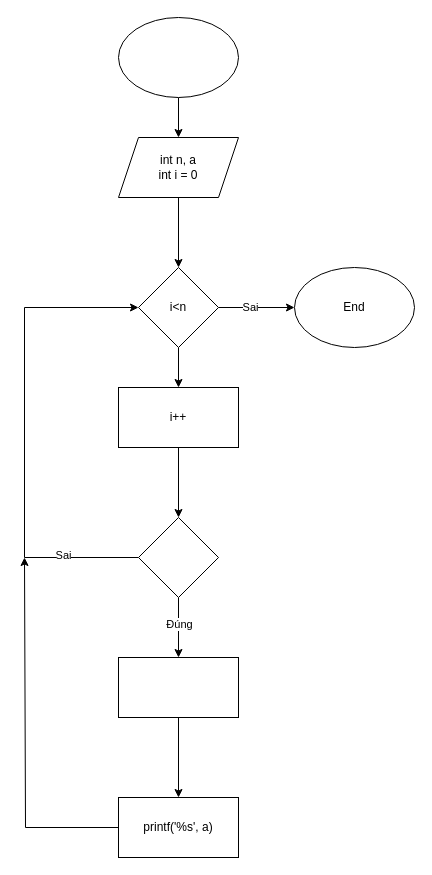
Some shapes in this 432 by 875 pixel diagram are drawn without their labels. The centre of each missing label's shape, as x and y in pixels:
a = i * i: the point at 178,687
i == n: the point at 178,557
Start: the point at 178,57
